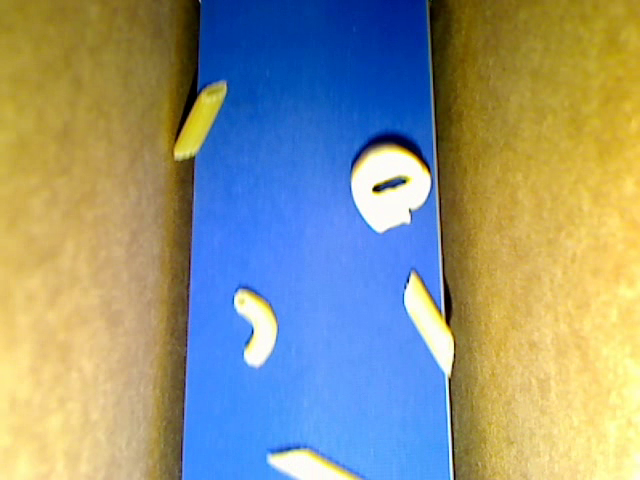elbow: (233, 286, 280, 368)
penne: (402, 268, 453, 376), (171, 80, 228, 160), (265, 446, 364, 479)
tortellini: (347, 145, 432, 234)
